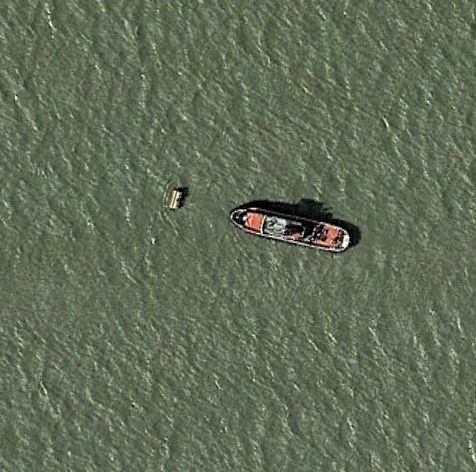boat: (227, 203, 353, 254)
